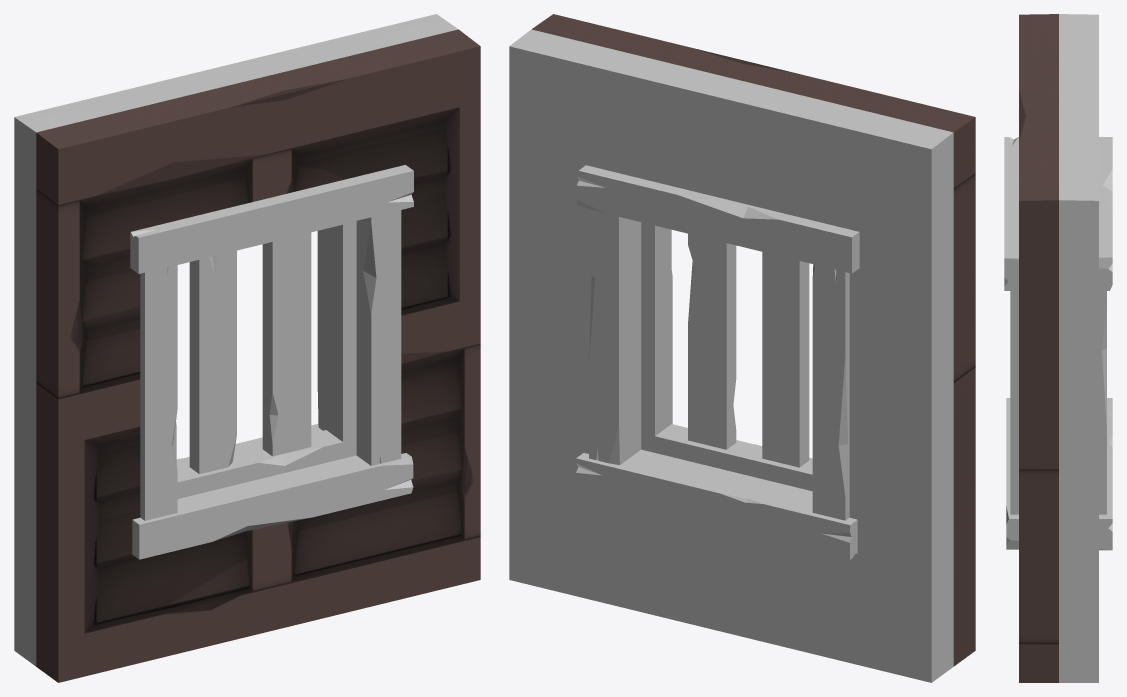
The model's file is SM_Bld_Wall_Block_Window_Half_01.fbx.
3 views of the same model, side by side, from view 1: azimuth 30°, elevation 25°; view 2: azimuth 150°, elevation 25°; view 3: azimuth 270°, elevation 25° (orthographic). The views are drawn at different scales.
Visible parts, largest first — view 1: SM_Bld_Wall_Block_Window_Half_01; view 2: SM_Bld_Wall_Block_Window_Half_01; view 3: SM_Bld_Wall_Block_Window_Half_01.
Part boxes in pixels (left/top/right/bottom): SM_Bld_Wall_Block_Window_Half_01: left=14, top=14, right=480, bottom=682; SM_Bld_Wall_Block_Window_Half_01: left=509, top=14, right=975, bottom=682; SM_Bld_Wall_Block_Window_Half_01: left=1004, top=14, right=1112, bottom=682.
Size of the model in its own units: 124 by 150 by 30.5.
